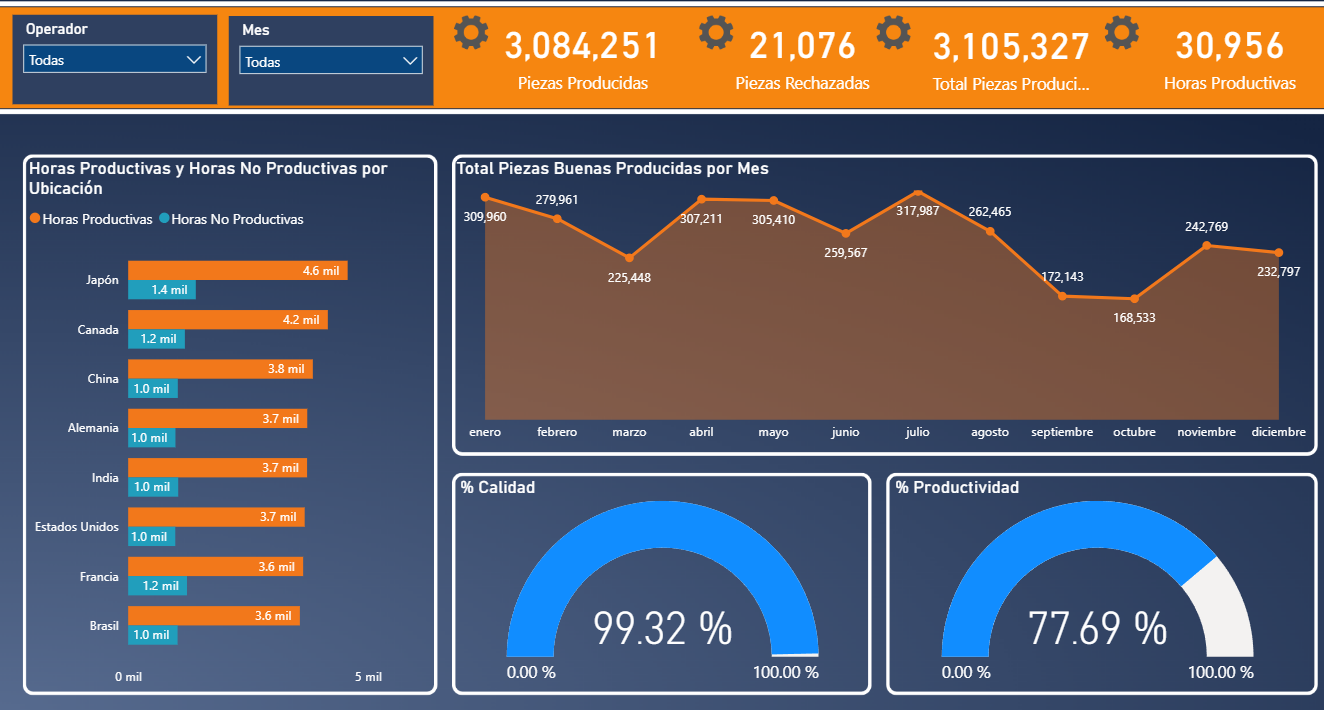

This screenshot's page, from the dashboard's own definition file:
{"tool":"powerbi","page":{"name":"Página 1","canvas":[1280,720],"ordinal":0},"visuals":[{"type":"card","fields":{"Values":["Producción.Total Piezas Buenas Producidas"]},"box":[445,11,235,146],"z":0},{"type":"card","fields":{"Values":["Producción.Total Piezas Rechazadas"]},"box":[691,34,167,100],"z":1000},{"type":"card","fields":{"Values":["Producción.Total Piezas Producidas"]},"box":[892.8,35,166.5,100.1],"z":2000},{"type":"card","fields":{"Values":["Producción.Horas Productivas"]},"box":[1103.9,33.8,166.5,100.1],"z":3000},{"type":"clusteredBarChart","fields":{"Category":["Producción.Ubicación"],"Y":["Producción.Horas Productivas","Producción.Horas No Productivas"]},"box":[22.7,184.5,396.8,519.3],"z":4000},{"type":"areaChart","fields":{"Category":["Producción.Fecha inicio.Variación.Jerarquía de fechas.Mes"],"Y":["Producción.Total Piezas Buenas Producidas"]},"box":[435.5,184.6,834.9,283.5],"z":5000},{"type":"slicer","fields":{"Values":["Producción.Operador"]},"box":[12.5,47.5,197.5,86.2],"z":6000},{"type":"gauge","fields":{"Y":["Producción.% Calidad"]},"box":[438.8,492.5,401.2,211.2],"z":7000},{"type":"gauge","fields":{"Y":["Producción.% Productividad"]},"box":[858.8,492.5,401.2,211.2],"z":8000},{"type":"slicer","fields":{"Values":["Producción.Fecha inicio.Variación.Jerarquía de fechas.Mes"]},"box":[221.2,48.8,197.5,86.2],"z":9000}]}

Visuals, with their boxes in screenshot pixels (x1, y1, x2, y2):
card - Producción.Total Piezas Buenas Producidas: pyautogui.locateOnScreen(458, 0, 704, 123)
card - Producción.Total Piezas Rechazadas: pyautogui.locateOnScreen(716, 0, 890, 99)
card - Producción.Total Piezas Producidas: pyautogui.locateOnScreen(927, 0, 1101, 100)
card - Producción.Horas Productivas: pyautogui.locateOnScreen(1147, 0, 1322, 99)
clusteredBarChart - Producción.Ubicación x Producción.Horas Productivas: pyautogui.locateOnScreen(17, 152, 432, 695)
areaChart - Producción.Fecha inicio.Variación.Jerarquía de fechas.Mes x Producción.Total Piezas Buenas Producidas: pyautogui.locateOnScreen(448, 152, 1322, 448)
slicer - Producción.Operador: pyautogui.locateOnScreen(6, 8, 213, 98)
gauge - Producción.% Calidad: pyautogui.locateOnScreen(452, 474, 871, 694)
gauge - Producción.% Productividad: pyautogui.locateOnScreen(891, 474, 1311, 694)
slicer - Producción.Fecha inicio.Variación.Jerarquía de fechas.Mes: pyautogui.locateOnScreen(224, 10, 431, 100)
